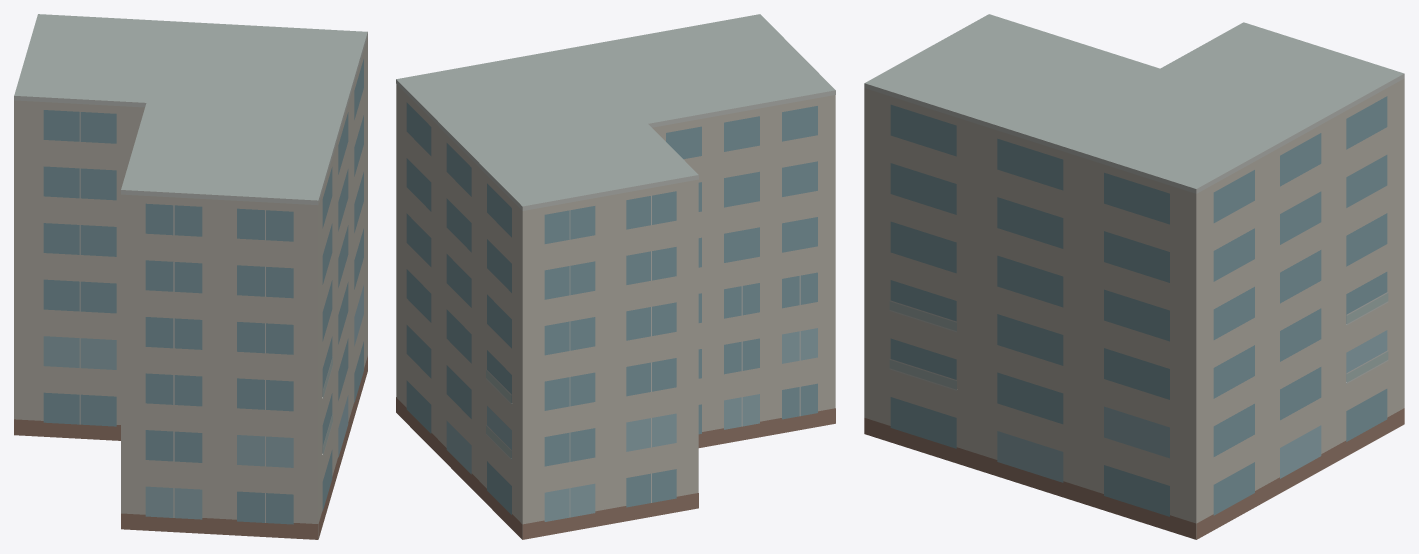
Rendered from survey-upis-33024558.glb.
3 renders of one model, left to right at view 1: azimuth 30°, elevation 25°; view 2: azimuth 150°, elevation 25°; view 3: azimuth 270°, elevation 25°, orthographic. The views are drawn at different scales.
Visible parts, largest first — view 1: survey-upis-33024558.tmp; view 2: survey-upis-33024558.tmp; view 3: survey-upis-33024558.tmp.
Boxes of the visible parts, <box> form: survey-upis-33024558.tmp: <box>14,14,367,539</box>; survey-upis-33024558.tmp: <box>396,14,835,539</box>; survey-upis-33024558.tmp: <box>864,14,1404,539</box>.
Bounding box in the file's own units: 18.96 × 17.7 × 24.71.
